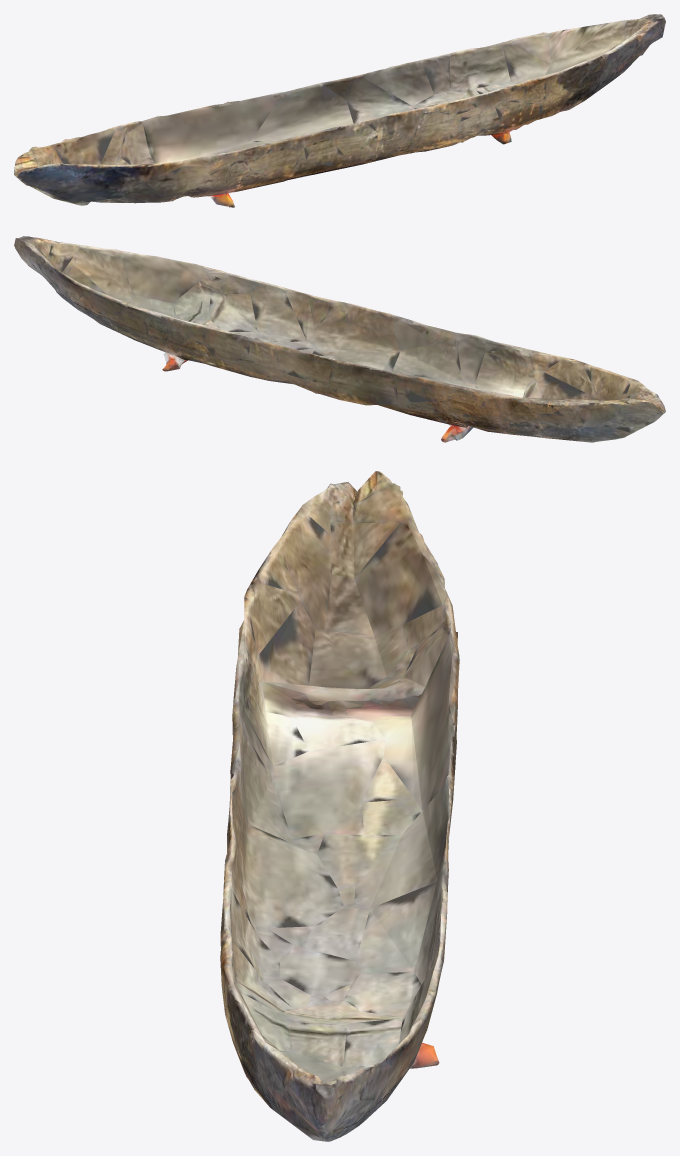
The model's file is canoe.glb.
3 views of the same model, one above another, from view 1: azimuth 30°, elevation 25°; view 2: azimuth 150°, elevation 25°; view 3: azimuth 270°, elevation 25° (orthographic). The views are drawn at different scales.
Visible parts, largest first — view 1: Object_2; view 2: Object_2; view 3: Object_2.
Boxes of the visible parts, x1,y1,x2,y2 form: Object_2: (14, 14, 665, 207); Object_2: (14, 236, 665, 442); Object_2: (220, 471, 459, 1141).
Size of the model in its own units: 4.99 by 0.55 by 0.8055.
1 material, 1 textured.
